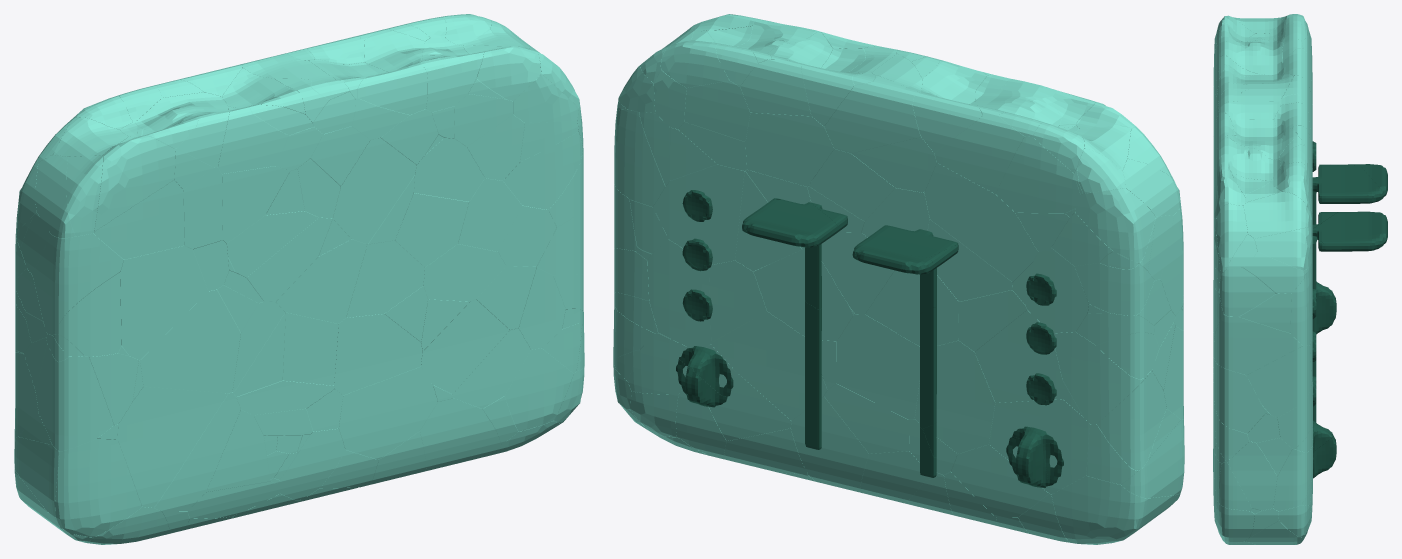
Rendered from Toaster.fbx.
3 renders of one model, left to right at view 1: azimuth 30°, elevation 25°; view 2: azimuth 150°, elevation 25°; view 3: azimuth 270°, elevation 25°, orthographic. The views are drawn at different scales.
Visible parts, largest first — view 1: Body_cell.166, Body_cell.002, Body_cell.141, Body_cell.150, Body_cell.053, Body_cell.021, Body_cell.192, Body_cell.058, Body_cell.101, Body_cell.132, Body_cell.059, Body_cell.024 (+84 smaller); view 2: Body_cell.164, Body_cell.196, Body_cell.161, Body_cell.097, Body_cell.158, Body_cell.027, Body_cell.001, Body_cell.029, Body_cell.193, Body_cell.069, Body_cell.045, Body_cell.156 (+90 smaller); view 3: Body_cell.178, Body_cell.201, Buttons_cell.018, Buttons_cell.003, Body_cell.070, Body_cell.076, Body_cell.172, Body_cell.198, Body_cell.091, Body_cell.054, Body_cell.191, Body_cell.163 (+47 smaller).
Boxes of the visible parts, bbox=[...] form: Body_cell.166: bbox=[117, 386, 227, 507]; Body_cell.002: bbox=[140, 289, 240, 393]; Body_cell.141: bbox=[120, 245, 208, 360]; Body_cell.150: bbox=[55, 439, 141, 537]; Body_cell.053: bbox=[338, 366, 437, 459]; Body_cell.021: bbox=[35, 344, 113, 451]; Body_cell.192: bbox=[32, 233, 123, 335]; Body_cell.058: bbox=[334, 314, 422, 395]; Body_cell.101: bbox=[332, 138, 416, 244]; Body_cell.132: bbox=[94, 135, 175, 231]; Body_cell.059: bbox=[421, 299, 509, 394]; Body_cell.024: bbox=[276, 239, 367, 323]; Body_cell.164: bbox=[924, 163, 1038, 282]; Body_cell.196: bbox=[836, 314, 919, 419]; Body_cell.161: bbox=[711, 311, 827, 420]; Body_cell.097: bbox=[653, 164, 744, 264]; Body_cell.158: bbox=[914, 340, 995, 453]; Body_cell.027: bbox=[824, 75, 920, 153]; Body_cell.001: bbox=[745, 112, 834, 186]; Body_cell.029: bbox=[989, 399, 1089, 494]; Body_cell.193: bbox=[1051, 475, 1136, 544]; Body_cell.069: bbox=[647, 239, 711, 347]; Body_cell.045: bbox=[1054, 332, 1152, 424]; Body_cell.156: bbox=[753, 249, 853, 341]; Body_cell.178: bbox=[1214, 314, 1302, 375]; Body_cell.201: bbox=[1246, 345, 1311, 417]; Buttons_cell.018: bbox=[1312, 211, 1387, 289]; Buttons_cell.003: bbox=[1312, 164, 1384, 224]; Body_cell.070: bbox=[1213, 361, 1265, 433]; Body_cell.076: bbox=[1243, 191, 1310, 238]; Body_cell.172: bbox=[1227, 441, 1277, 510]; Body_cell.198: bbox=[1219, 267, 1275, 316]; Body_cell.091: bbox=[1214, 39, 1283, 83]; Body_cell.054: bbox=[1214, 137, 1280, 186]; Body_cell.191: bbox=[1273, 445, 1312, 511]; Body_cell.163: bbox=[1254, 226, 1311, 270].
Bounding box in the file's own units: 992 × 735 × 321.
